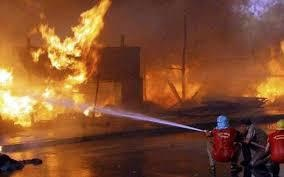fire: (0, 2, 108, 126)
